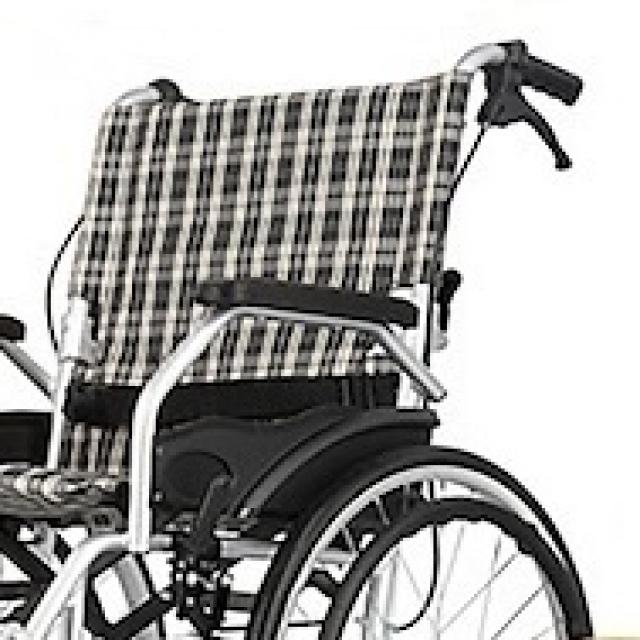wheelchair: (6, 24, 610, 640)
